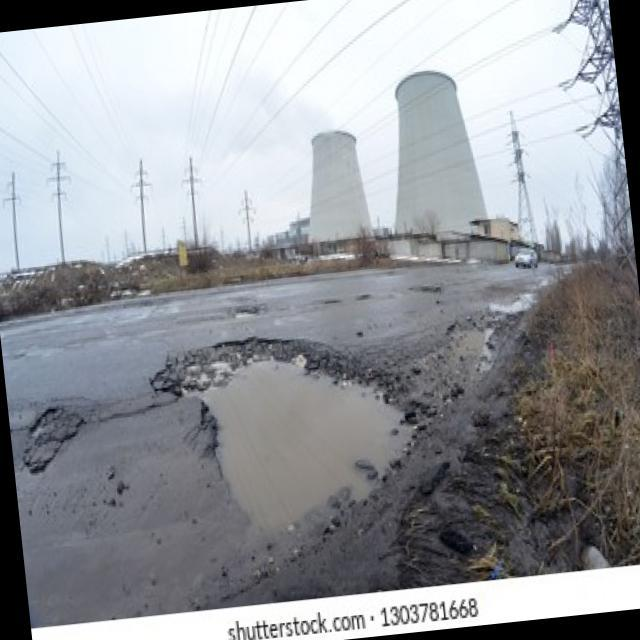Pothole: (153, 326, 411, 523), (18, 403, 86, 471), (233, 306, 259, 320)
